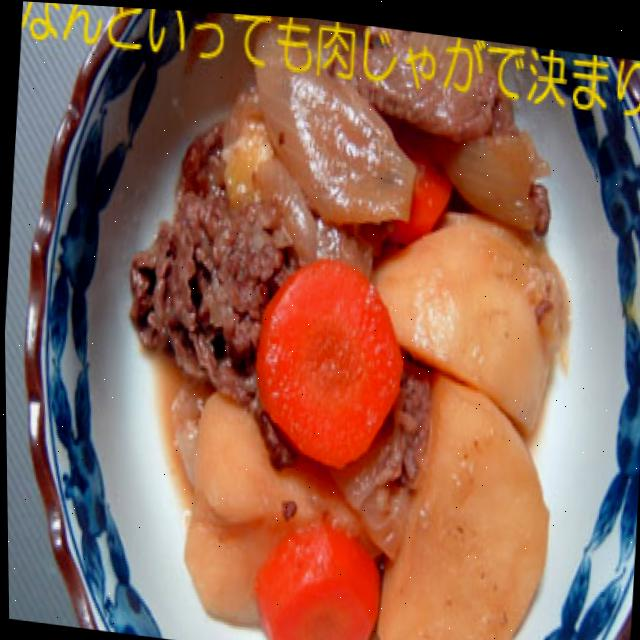牛肉菜式: (106, 68, 584, 640)
